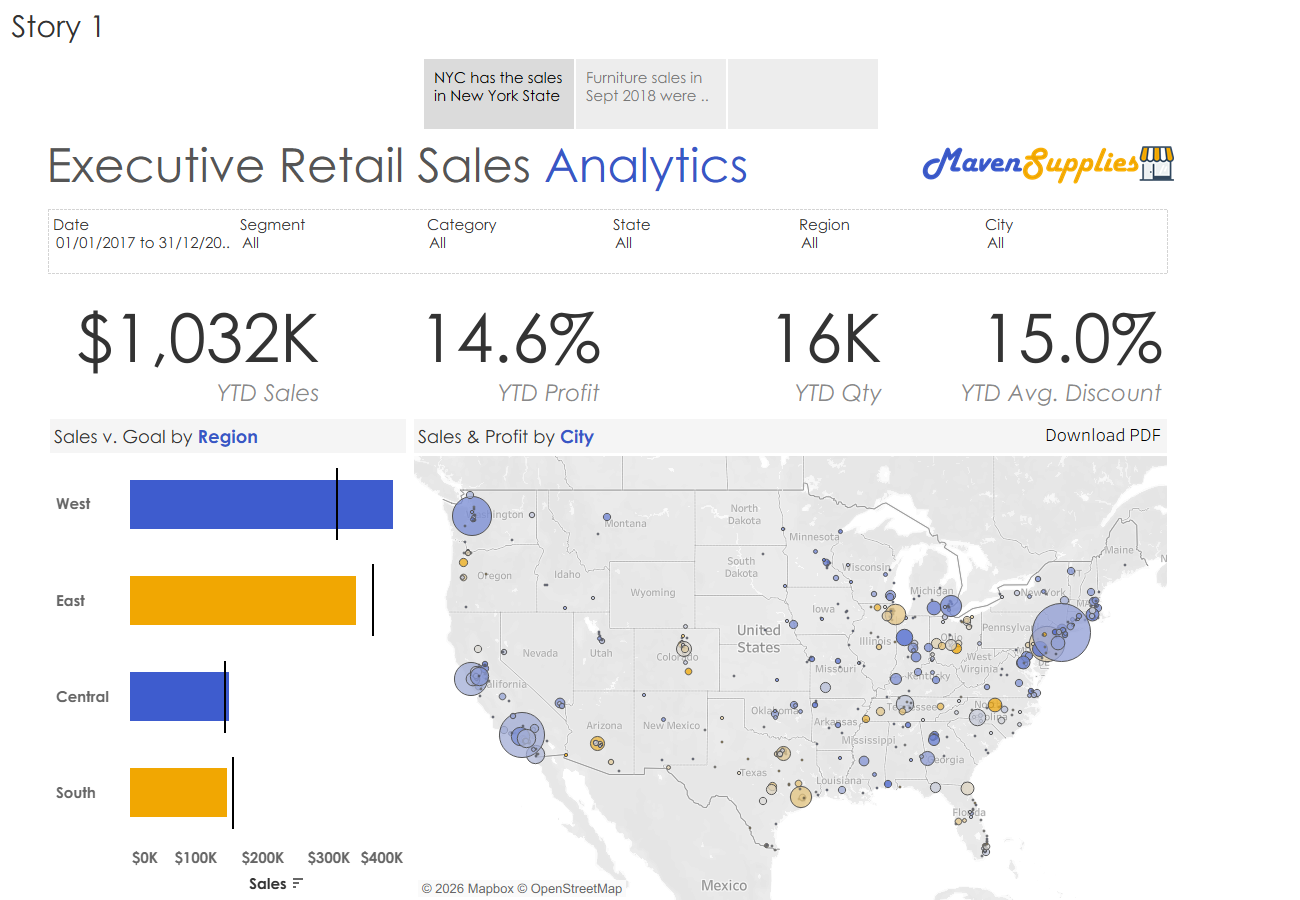

This screenshot's page, from the dashboard's own definition file:
{"tool":"tableau","page":{"name":"Executive Dashboard","canvas":[1200,1200],"ordinal":0},"visuals":[{"type":"blank","box":[0,0,1200,90]},{"type":"text","box":[35,20,751,58]},{"type":"image","param":"Image/Maven Supplies Logo.png","box":[910,25,256,57]},{"type":"filter","title":"Treemap - Sales by Sub-Category","param":"[federated.0nayi0l1egsd8t18wtyq110iw3qj].[none:Order Date (MDY):qk]","box":[41,95,187,63]},{"type":"filter","title":"Treemap - Sales by Sub-Category","param":"[federated.0nayi0l1egsd8t18wtyq110iw3qj].[none:Segment:nk]","box":[228,95,187,63]},{"type":"filter","title":"Treemap - Sales by Sub-Category","param":"[federated.0nayi0l1egsd8t18wtyq110iw3qj].[none:Category:nk]","box":[415,95,186,63]},{"type":"filter","title":"Treemap - Sales by Sub-Category","param":"[federated.0nayi0l1egsd8t18wtyq110iw3qj].[none:State:nk]","box":[601,95,186,63]},{"type":"filter","title":"Treemap - Sales by Sub-Category","param":"[federated.0nayi0l1egsd8t18wtyq110iw3qj].[none:Region:nk]","box":[787,95,186,63]},{"type":"filter","title":"Bars - Sales v. Goal","param":"[federated.0nayi0l1egsd8t18wtyq110iw3qj].[none:City:nk]","box":[973,95,186,63]},{"type":"worksheet","title":"BAN - YTD Sales","mark":"Automatic","box":[38,175,282,125]},{"type":"worksheet","title":"BAN - YTD Profit","mark":"Automatic","box":[320,175,281,125]},{"type":"worksheet","title":"BAN - YTD Qty","mark":"Automatic","box":[601,175,281,125]},{"type":"worksheet","title":"BAN - YTD Avg. Discount","mark":"Automatic","box":[882,175,281,125]},{"type":"worksheet","title":"Bars - Sales v. Goal","mark":"Automatic","rows":["Region"],"cols":["Sales","Goal"],"box":[38,300,364,489]},{"type":"worksheet","title":"Map - Sales & Profit","mark":"Automatic","box":[402,300,761,489]},{"type":"dashboard-object","box":[1028,309,134,21]},{"type":"worksheet","title":"Treemap - Sales by Sub-Category","mark":"Automatic","rows":["Category"],"box":[38,789,364,351]},{"type":"worksheet","title":"Bar Line - Monthly Sales Trend","mark":"Bar","rows":["Sales","Profit"],"cols":["Order Date (MDY)"],"box":[402,789,761,351]}]}

Visuals, with their boxes on the page's 1200x1200 design canvas (x1, y1, x2, y2). These are canvas units, not pixel positions in the 1300x900 screenshot, which may show the page scaled, cropped or inside an application window:
blank: select_region(0, 0, 1200, 90)
text: select_region(35, 20, 786, 78)
image: select_region(910, 25, 1166, 82)
"Treemap - Sales by Sub-Category" filter: select_region(41, 95, 228, 158)
"Treemap - Sales by Sub-Category" filter: select_region(228, 95, 415, 158)
"Treemap - Sales by Sub-Category" filter: select_region(415, 95, 601, 158)
"Treemap - Sales by Sub-Category" filter: select_region(601, 95, 787, 158)
"Treemap - Sales by Sub-Category" filter: select_region(787, 95, 973, 158)
"Bars - Sales v. Goal" filter: select_region(973, 95, 1159, 158)
"BAN - YTD Sales" worksheet: select_region(38, 175, 320, 300)
"BAN - YTD Profit" worksheet: select_region(320, 175, 601, 300)
"BAN - YTD Qty" worksheet: select_region(601, 175, 882, 300)
"BAN - YTD Avg. Discount" worksheet: select_region(882, 175, 1163, 300)
"Bars - Sales v. Goal" worksheet: select_region(38, 300, 402, 789)
"Map - Sales & Profit" worksheet: select_region(402, 300, 1163, 789)
dashboard-object: select_region(1028, 309, 1162, 330)
"Treemap - Sales by Sub-Category" worksheet: select_region(38, 789, 402, 1140)
"Bar Line - Monthly Sales Trend" worksheet (Bar marks): select_region(402, 789, 1163, 1140)
